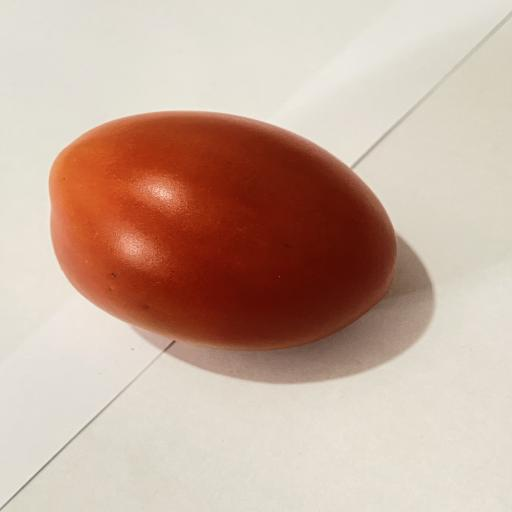ripe: (49, 111, 396, 349)
